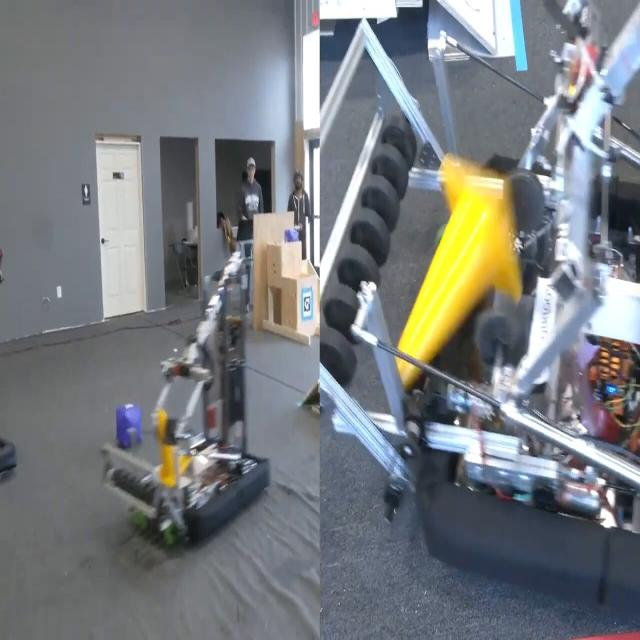frc_cone: (378, 151, 529, 385), (148, 403, 190, 487)
frc_cube: (114, 400, 143, 449), (284, 226, 302, 246)
